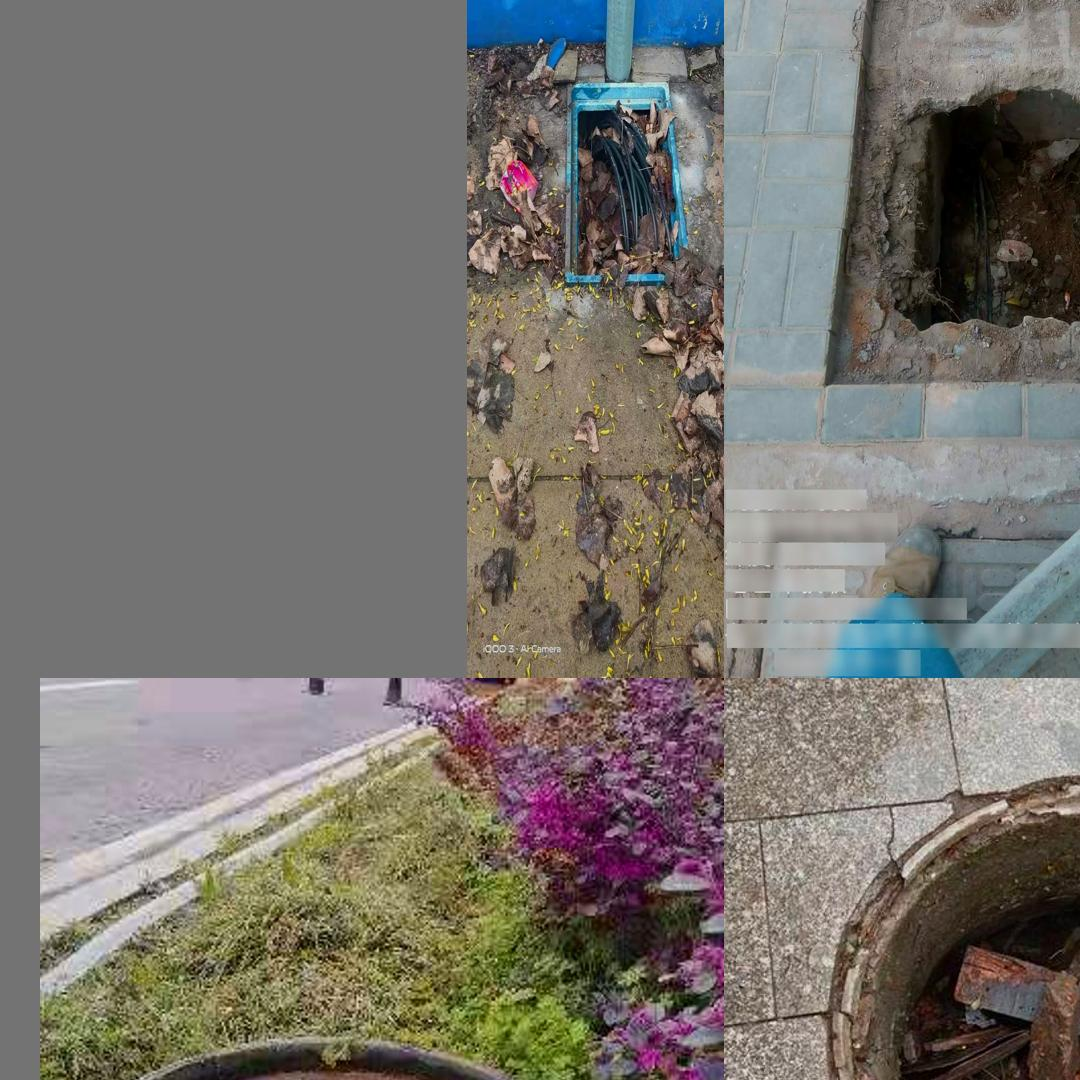lose: (824, 0, 1080, 383), (820, 785, 1080, 1080), (50, 1015, 654, 1080), (558, 74, 689, 289)
